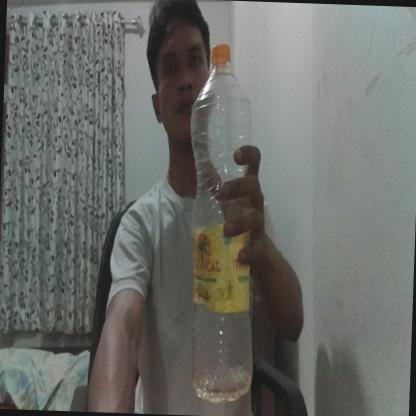plastic_bottles: (182, 38, 266, 404)
